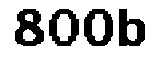0: (83, 5, 116, 49), (47, 8, 82, 49)
8: (14, 7, 44, 49)
b: (115, 4, 151, 52)
